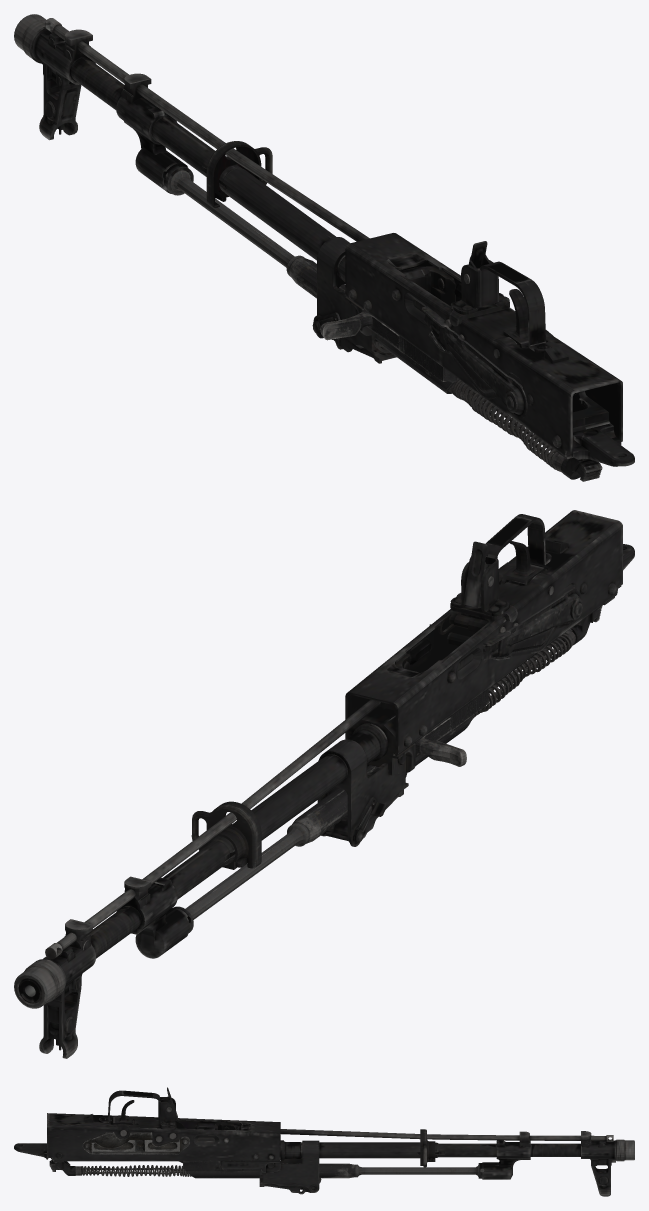
3 views of the same model, one above another, from view 1: azimuth 30°, elevation 25°; view 2: azimuth 150°, elevation 25°; view 3: azimuth 270°, elevation 25° (orthographic). The views are drawn at different scales.
Parts seen in each view (by area): view 1: TW_5644bd2b4bdc2d3b4c8b4572_PZ_Import; view 2: TW_5644bd2b4bdc2d3b4c8b4572_PZ_Import; view 3: TW_5644bd2b4bdc2d3b4c8b4572_PZ_Import.
Part boxes in pixels (box(x1,y1,x2,y2)): TW_5644bd2b4bdc2d3b4c8b4572_PZ_Import: box(14, 14, 634, 481); TW_5644bd2b4bdc2d3b4c8b4572_PZ_Import: box(14, 510, 634, 1058); TW_5644bd2b4bdc2d3b4c8b4572_PZ_Import: box(14, 1087, 634, 1196).
Bounding box in the file's own units: 0.0424 × 0.3937 × 0.0735.
Materials: 1 (1 with a texture image).
